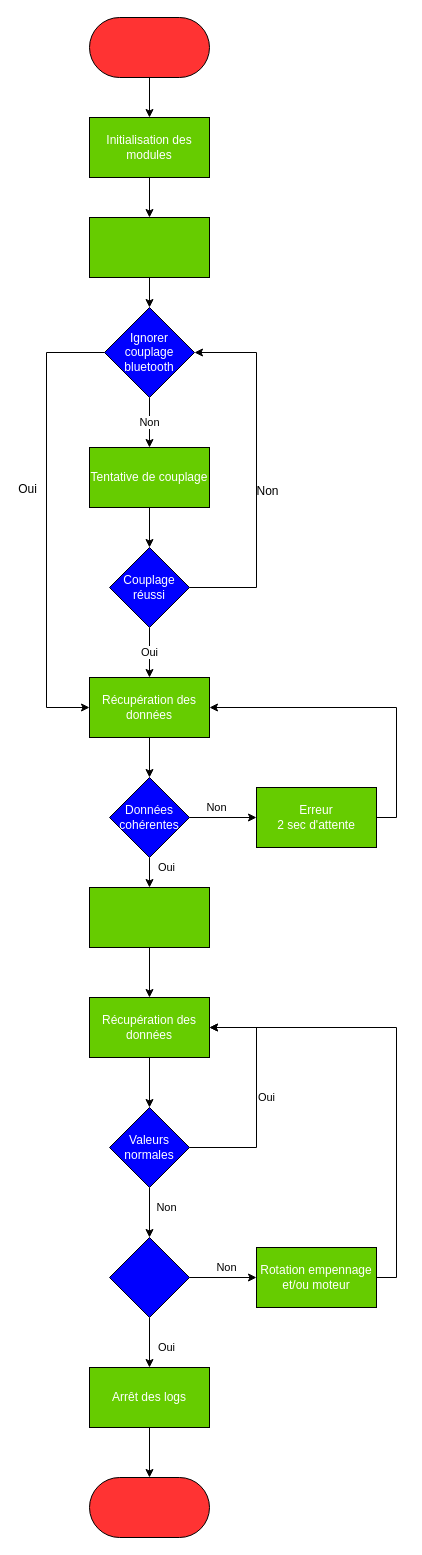
Some shapes in this 422 by 1555 pixel diagram are drawn without their labels. The shapes that lost their labels are listed below. From the top down, each one's centre as x and y in pixels, then its label:
At (149,47): "Debut".
At (149,247): "Démarrage des logs".
At (149,917): "Lancement".
At (149,1277): "Véhicule au sol".
At (149,1507): "Fin".
